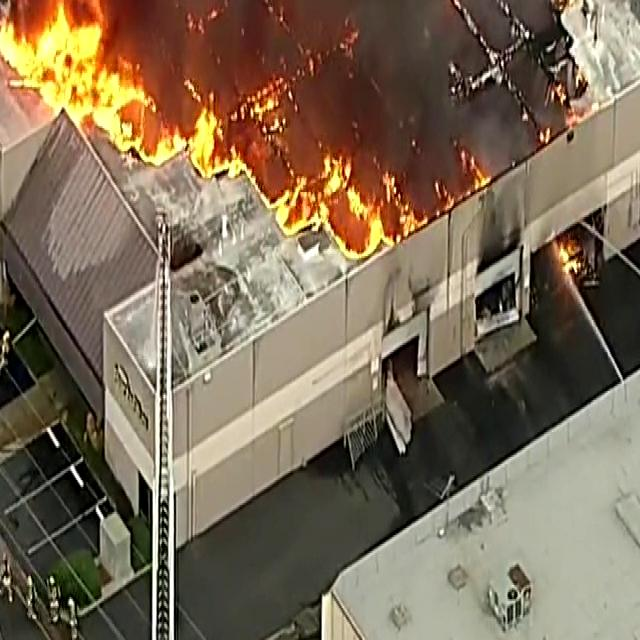fire: (0, 0, 135, 148), (150, 84, 230, 150)
